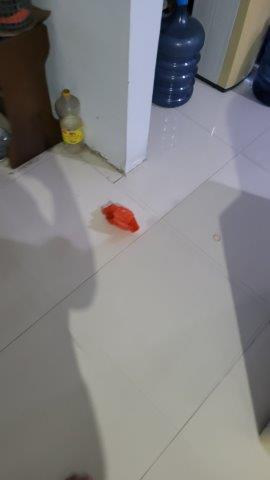plastik: (99, 204, 141, 232)
